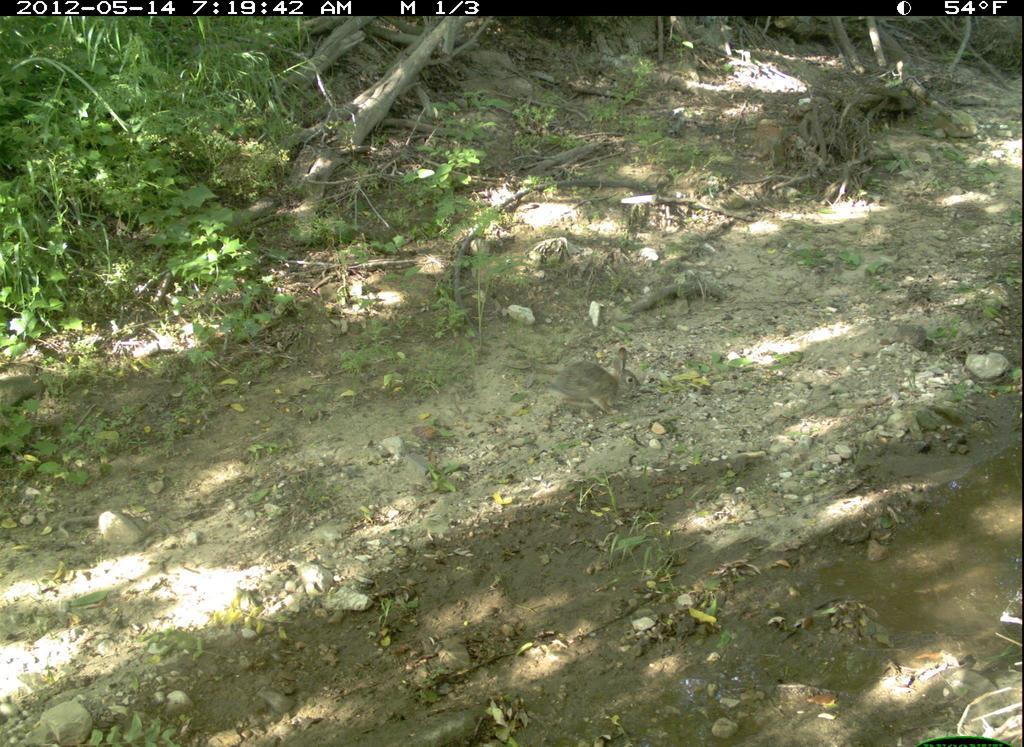rabbit: (552, 346, 652, 423)
